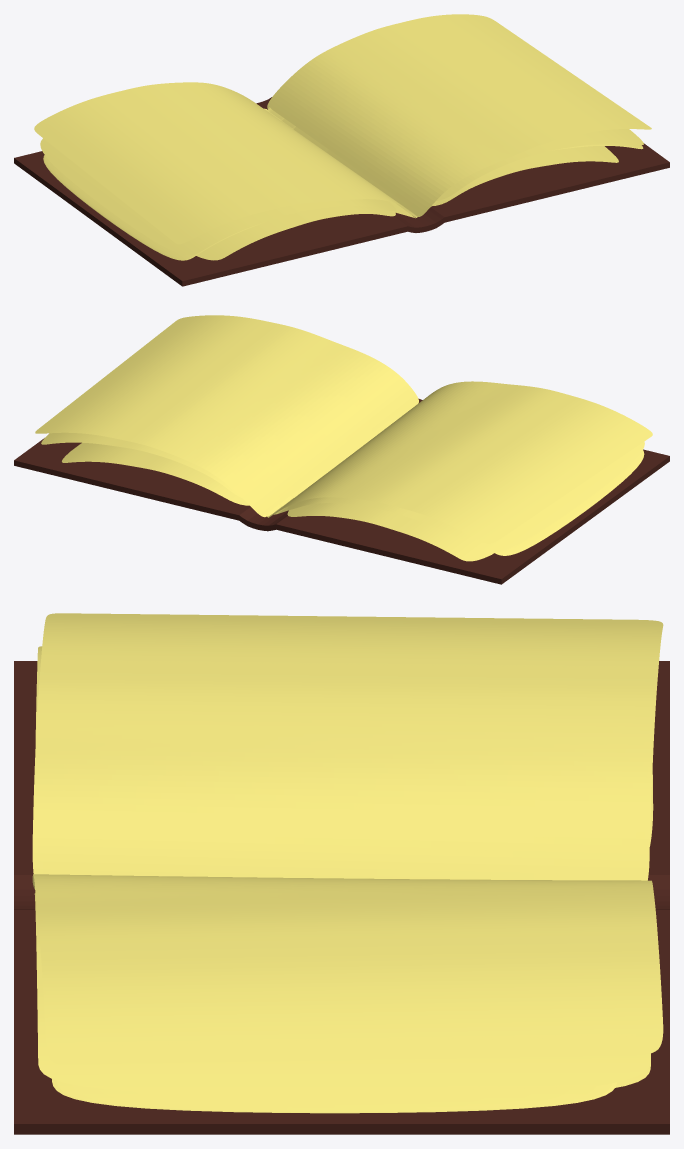
File: journal.glb
3 renders of one model, top to bottom at view 1: azimuth 30°, elevation 25°; view 2: azimuth 150°, elevation 25°; view 3: azimuth 270°, elevation 25°, orthographic. The views are drawn at different scales.
Visible parts, largest first — view 1: Cube, Cube.001; view 2: Cube, Cube.001; view 3: Cube, Cube.001.
Boxes of the visible parts, <box> form: Cube: <box>34,14,651,260</box>; Cube.001: <box>14,97,669,286</box>; Cube: <box>35,315,652,561</box>; Cube.001: <box>14,398,669,584</box>; Cube: <box>32,613,663,1113</box>; Cube.001: <box>14,661,669,1134</box>.
Bounding box in the file's own units: 4.64 × 0.4904 × 2.78.
